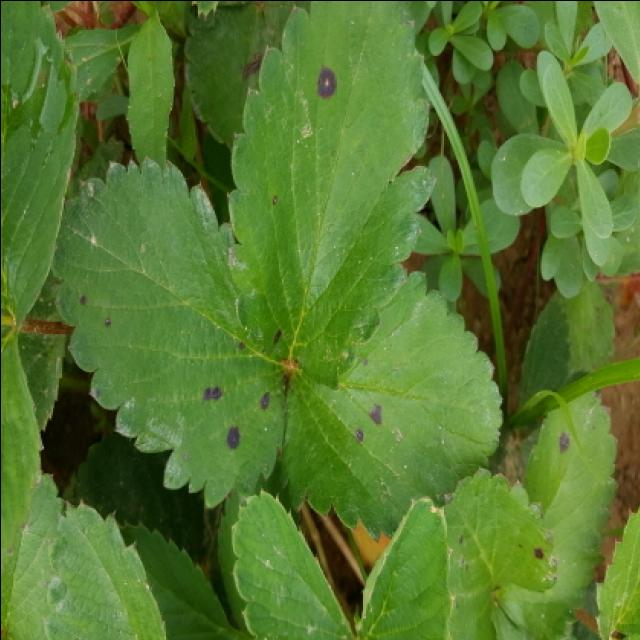Leaf Spot: (48, 154, 289, 508), (225, 2, 437, 388), (266, 269, 504, 545), (354, 464, 555, 640), (489, 389, 621, 640)
